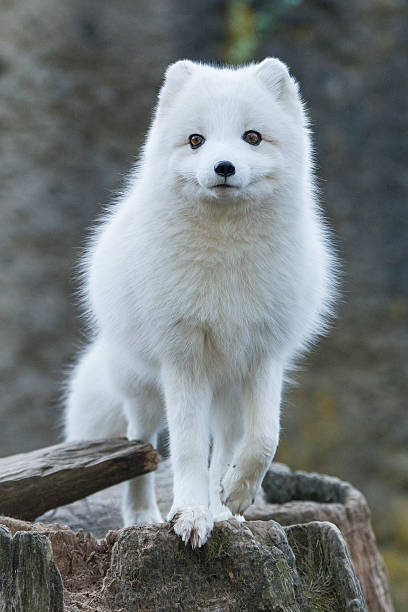arcticfox: (172, 93, 301, 233)
